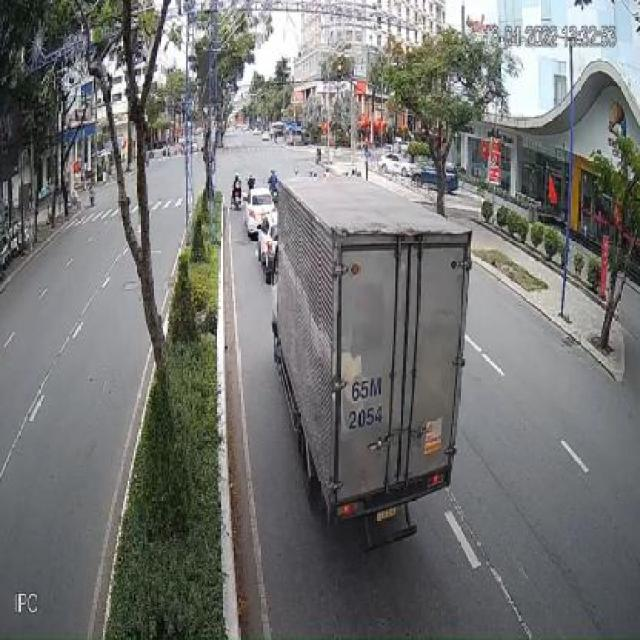car: (253, 213, 282, 273), (244, 185, 277, 235)
motorbike: (233, 172, 243, 210)
truck: (269, 179, 471, 548)
